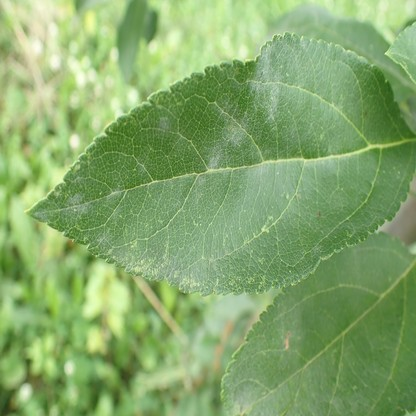powdery_mildew: (220, 300, 361, 416), (249, 44, 278, 123), (32, 191, 91, 221), (225, 117, 247, 147), (106, 190, 122, 222), (208, 143, 222, 171), (135, 155, 148, 175), (156, 115, 171, 132), (197, 176, 207, 201), (96, 231, 109, 243)
